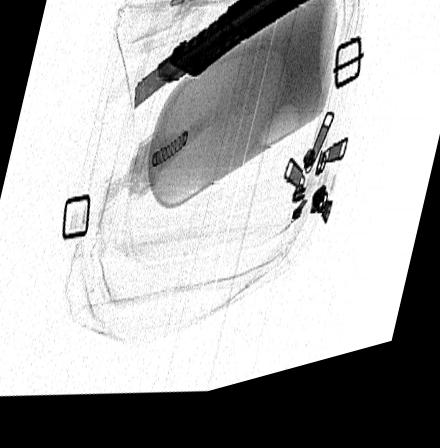Knife: (133, 0, 333, 118)
